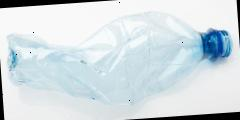plastic: (3, 5, 235, 115)
